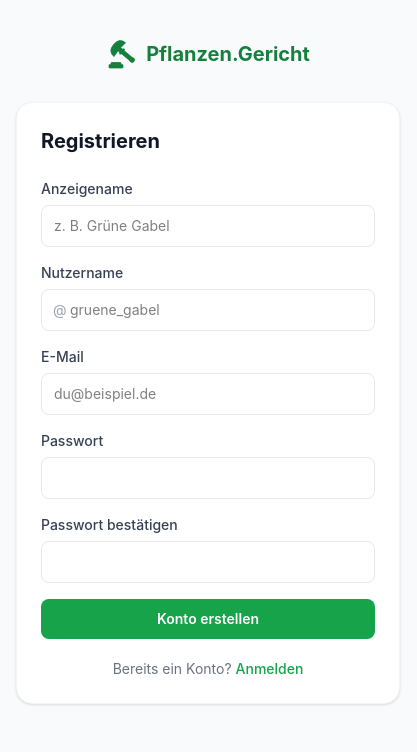
RegisterView › given signing up fails › shows the error
Type "valid_name" into the field with id "username" at (208, 310), box [41,289,375,331]
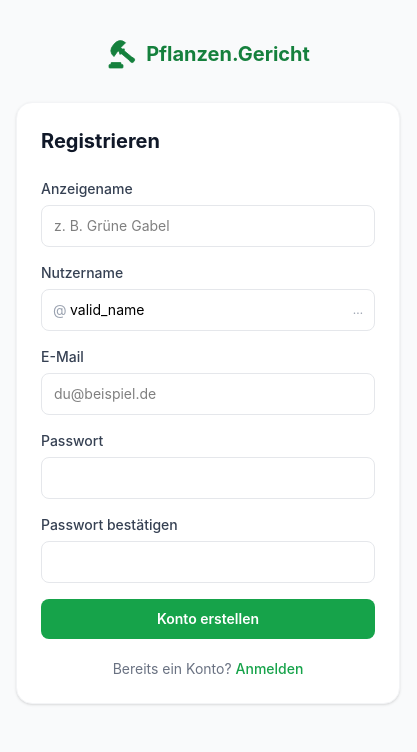
Type "long-enough" into the password field labelled "Passwort" at (208, 478), box [41,457,375,499]
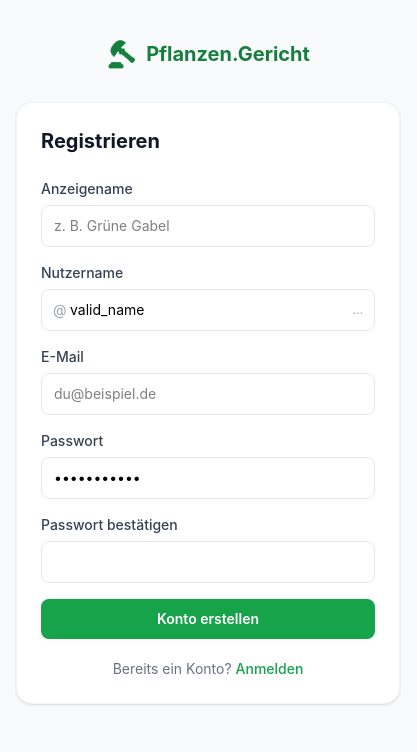
Type "long-enough" into the password field labelled "Passwort bestätigen" at (208, 562), box [41,541,375,583]
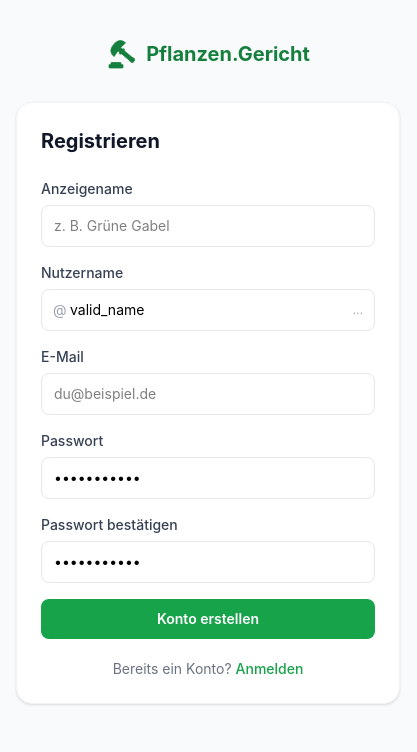
Submit the form, box [41,179,375,639]
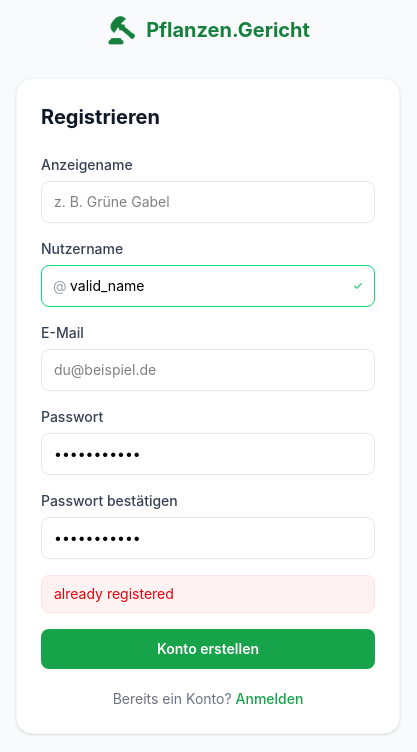
Expected: the text "already registered" is shown, [41,575,375,613]
